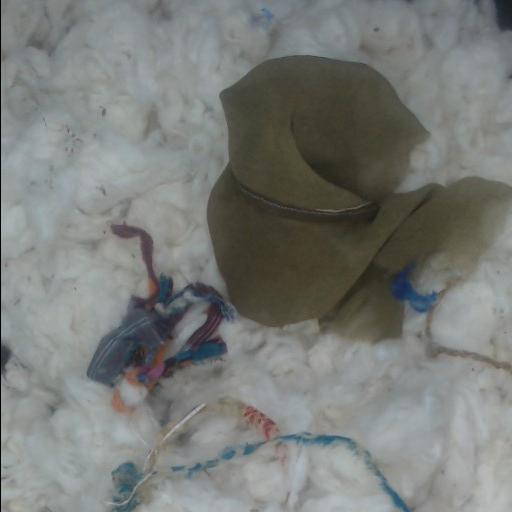cloth: (87, 55, 512, 511), (170, 402, 411, 511)
cotton: (1, 0, 512, 511), (134, 443, 399, 511), (160, 404, 260, 465)
jute: (419, 281, 512, 377)
